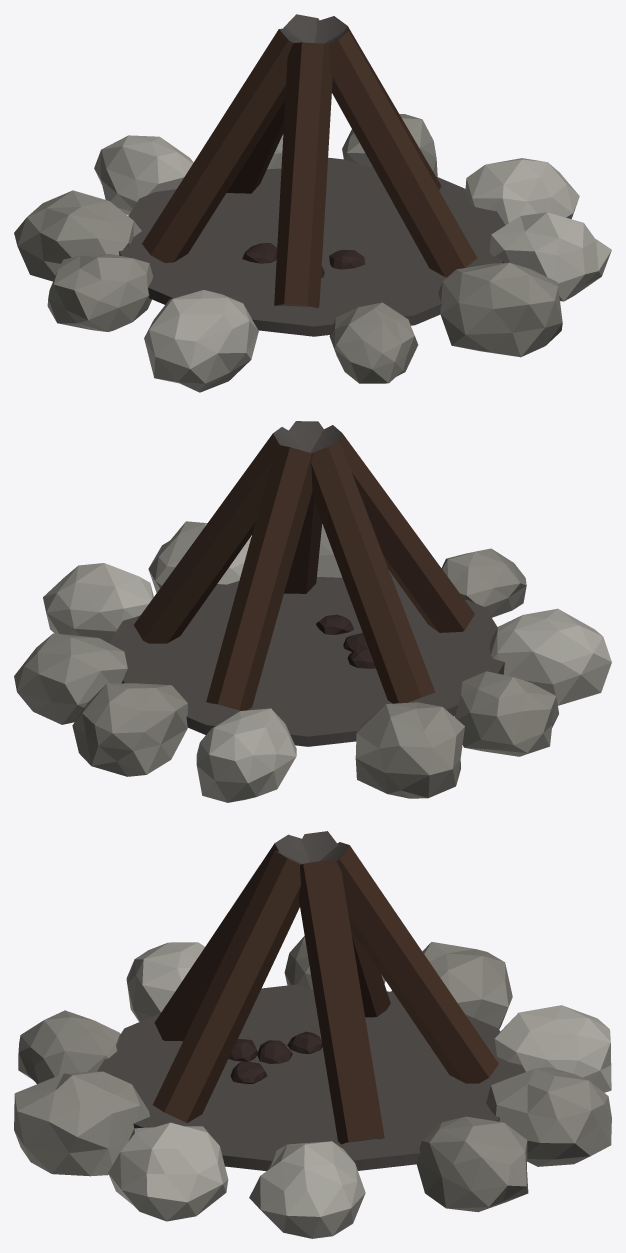
The model's file is SM_Campfire_Unlit.glb.
3 renders of one model, top to bottom at view 1: azimuth 30°, elevation 25°; view 2: azimuth 150°, elevation 25°; view 3: azimuth 270°, elevation 25°, orthographic. The views are drawn at different scales.
Visible parts, largest first — view 1: SM_Campfire_Unlit; view 2: SM_Campfire_Unlit; view 3: SM_Campfire_Unlit.
Part boxes in pixels (box(x1,y1,x2,y2)): SM_Campfire_Unlit: box(14, 14, 611, 392); SM_Campfire_Unlit: box(14, 421, 611, 802); SM_Campfire_Unlit: box(14, 831, 611, 1238).
Bounding box in the file's own units: 1.05 × 0.5163 × 0.9964.
Materials: 1 (1 with a texture image).
